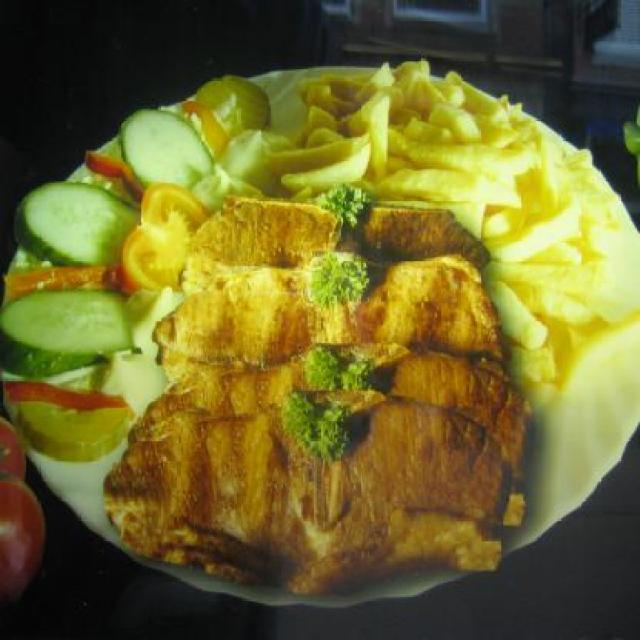Cucumber: (0, 294, 138, 377), (14, 183, 142, 265), (108, 100, 220, 192), (20, 408, 131, 459)
